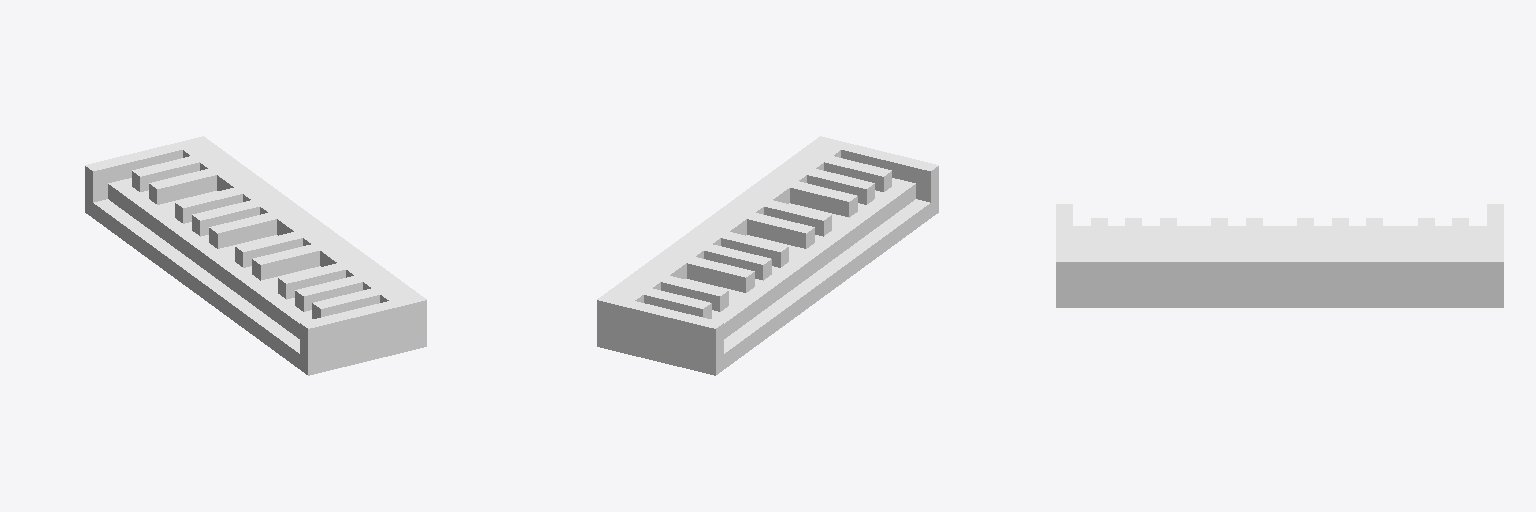
The model's file is keyboard.obj.
3 views of the same model, side by side, from view 1: azimuth 30°, elevation 25°; view 2: azimuth 150°, elevation 25°; view 3: azimuth 270°, elevation 25° (orthographic).
Parts seen in each view (by area): view 1: object 1; view 2: object 1; view 3: object 1.
Part boxes in pixels (bbox=[...]): object 1: bbox=[85, 136, 426, 375]; object 1: bbox=[597, 136, 938, 375]; object 1: bbox=[1056, 204, 1503, 307].
Size of the model in its own units: 0.8 by 0.3 by 2.6.